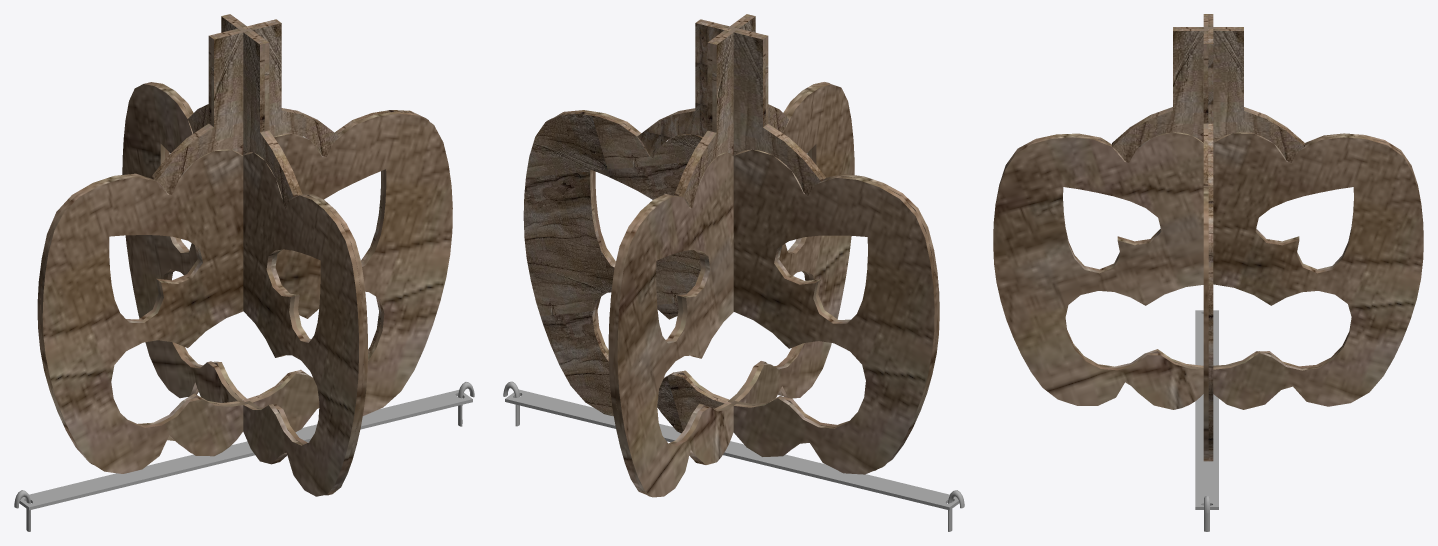
The model's file is pumking2.glb.
3 renders of one model, left to right at view 1: azimuth 30°, elevation 25°; view 2: azimuth 150°, elevation 25°; view 3: azimuth 270°, elevation 25°, orthographic. The views are drawn at different scales.
Parts seen in each view (by area): view 1: Node; view 2: Node; view 3: Node.
Part boxes in pixels (bbox=[...]): Node: bbox=[14, 14, 474, 531]; Node: bbox=[503, 14, 964, 531]; Node: bbox=[993, 14, 1423, 531].
Bounding box in the file's own units: 171 × 159 × 153.
Materials: 3 (2 with a texture image).
